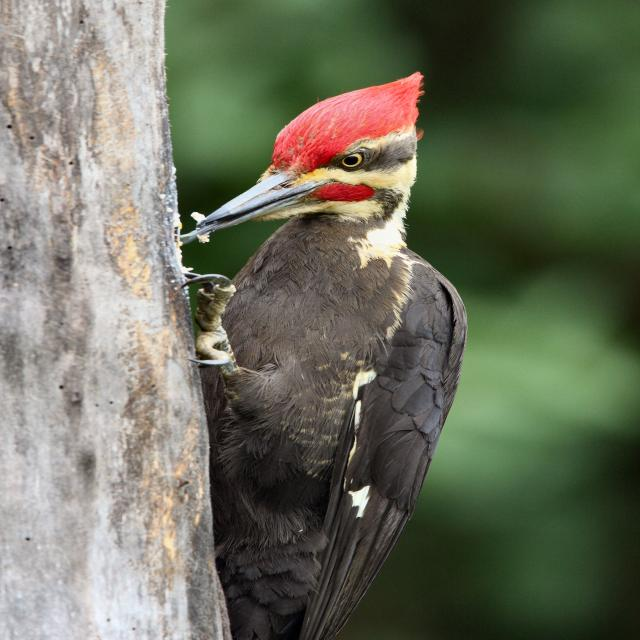Woodpecker: (179, 67, 475, 624)
